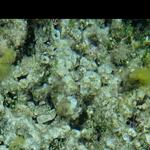dead: (3, 16, 148, 147)
